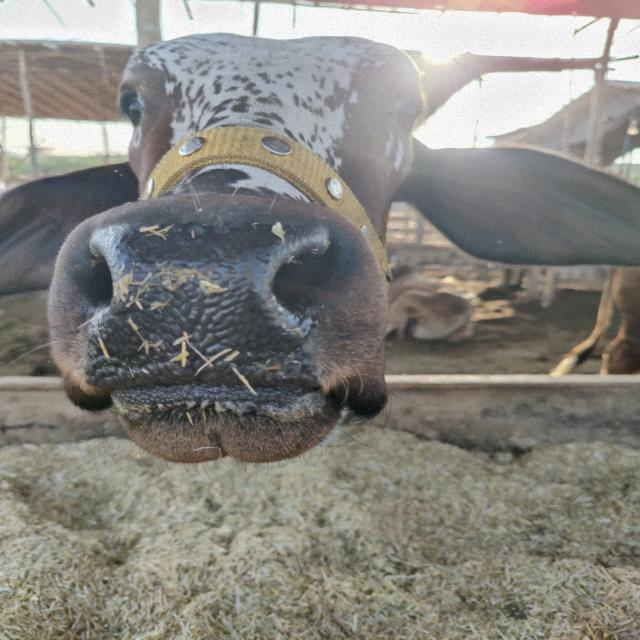muzzles: (65, 209, 353, 401)
